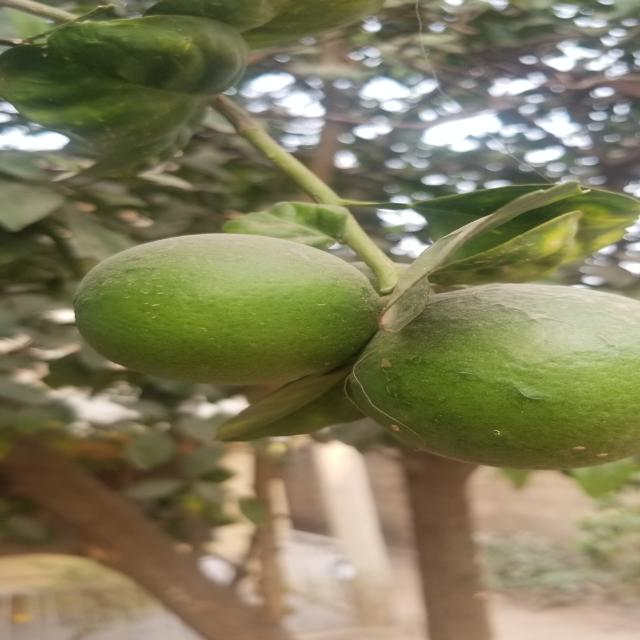Unripe: (55, 224, 379, 398), (382, 280, 640, 480)
